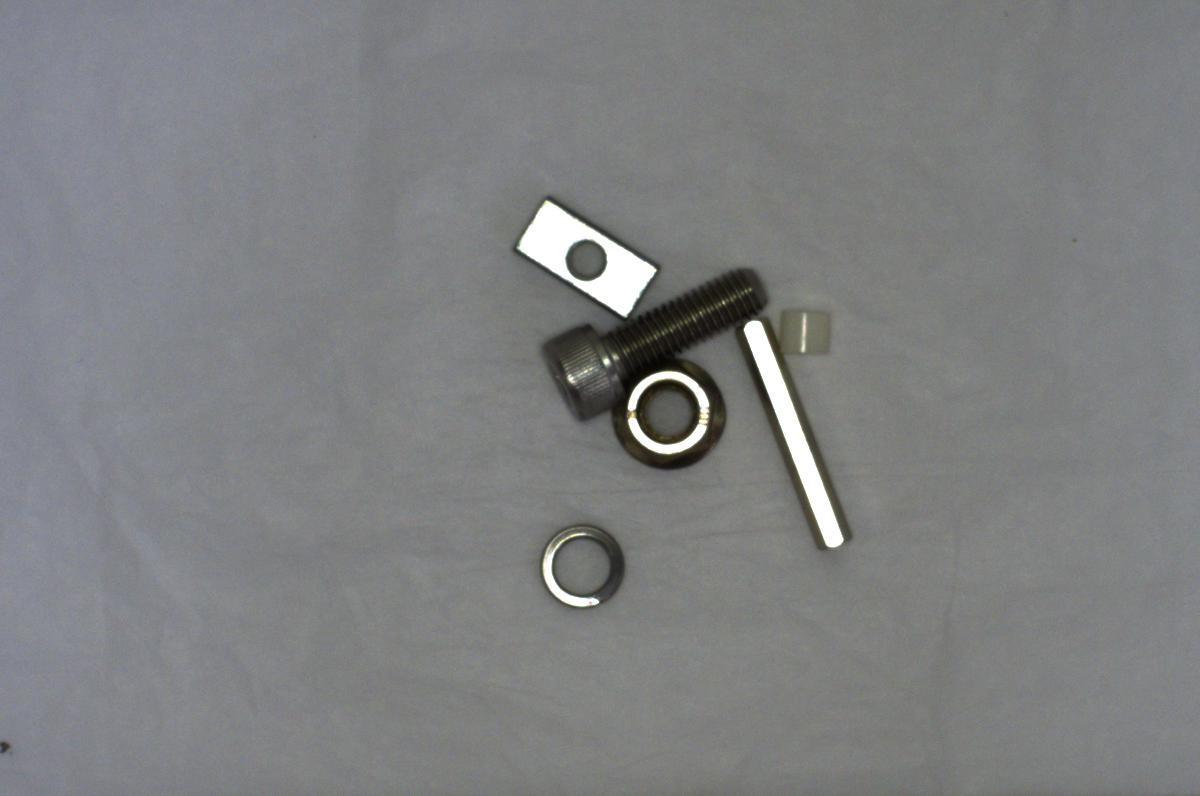Double hexagonal column: (733, 308, 848, 556)
Flange nut: (603, 360, 739, 473)
Hexagon screw: (519, 264, 779, 421)
Plastic cushion pillar: (776, 299, 835, 362)
Rectangular nut: (517, 198, 657, 326)
Spring washer: (528, 515, 633, 623)
